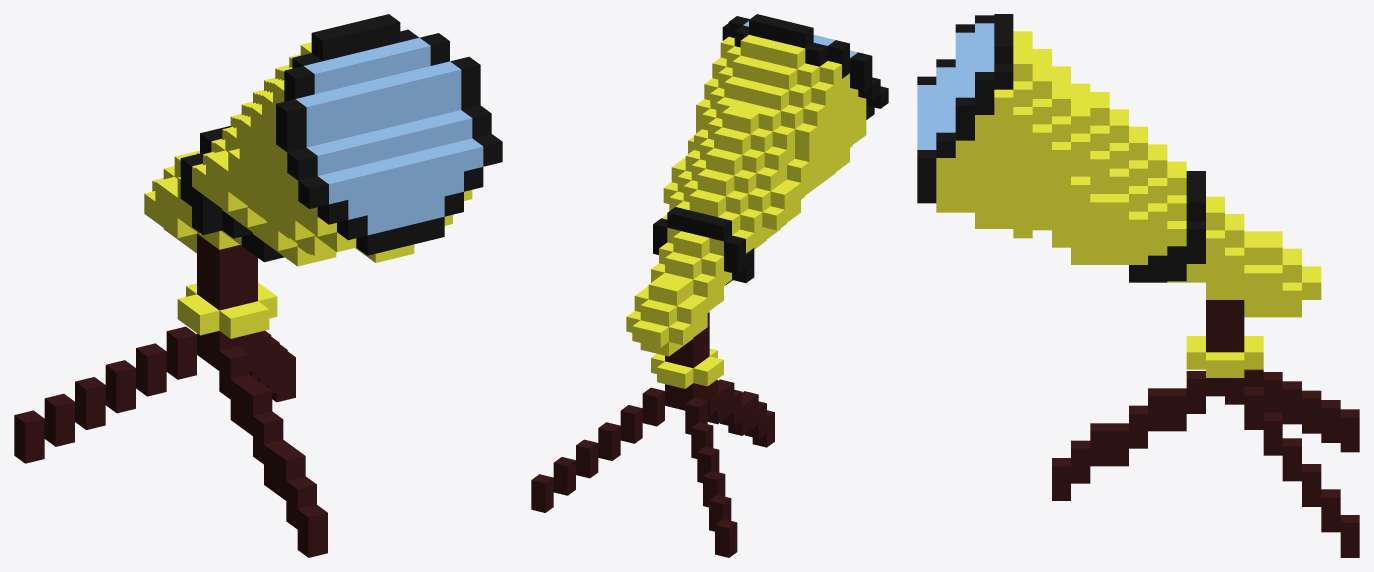
File: scope.obj
3 views of the same model, side by side, from view 1: azimuth 30°, elevation 25°; view 2: azimuth 150°, elevation 25°; view 3: azimuth 270°, elevation 25° (orthographic). The views are drawn at different scales.
Bounding box in the file's own units: 1.4 × 2.7 × 2.3.
Materials: 1 (1 with a texture image).
